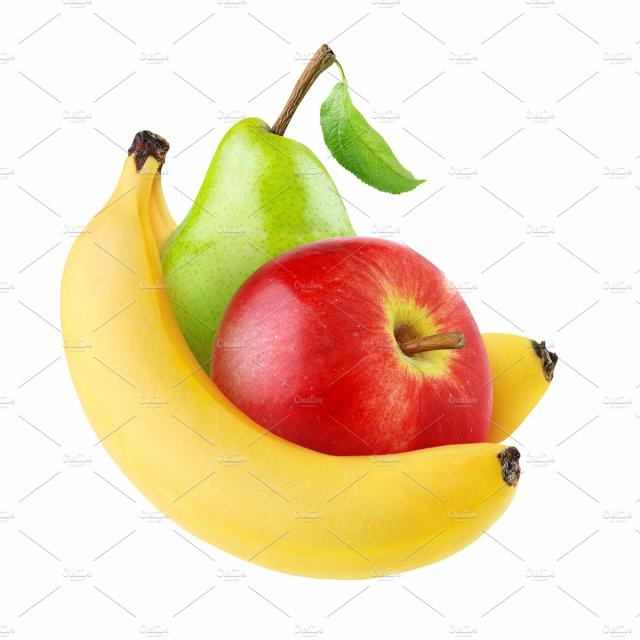apple: (212, 235, 496, 474)
banana: (60, 126, 520, 579)
pear: (162, 92, 358, 390)
